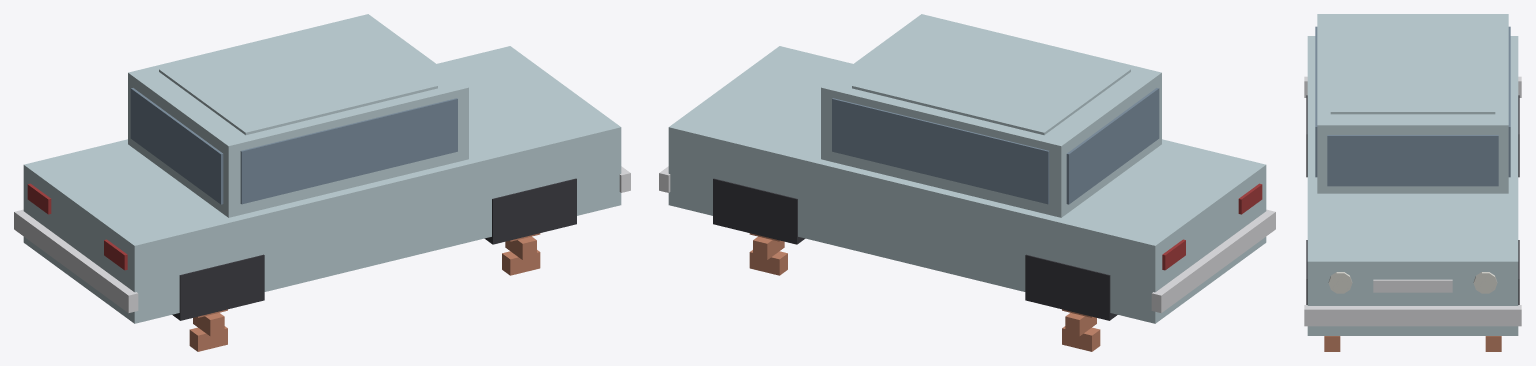
Rendered from kopeyka.glb.
3 renders of one model, left to right at view 1: azimuth 30°, elevation 25°; view 2: azimuth 150°, elevation 25°; view 3: azimuth 270°, elevation 25°, orthographic. The views are drawn at different scales.
Visible parts, largest first — view 1: Kopeyka; view 2: Kopeyka; view 3: Kopeyka.
Boxes of the visible parts, x1=… form: Kopeyka: x1=14, y1=14, x2=630, y2=351; Kopeyka: x1=659, y1=14, x2=1275, y2=351; Kopeyka: x1=1304, y1=14, x2=1521, y2=351.
Bounding box in the file's own units: 4.18 × 1.62 × 1.65.
